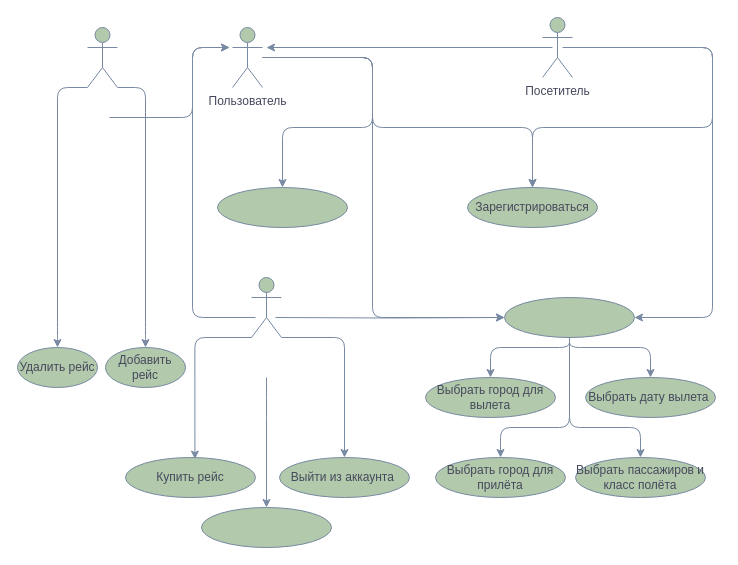
The diagram is 738 pixels wide and 565 high, and some of its shapes have lost their labels. The box of each missing label's shape, as (x1, y1, x2, y2) in pixels:
Администратор: (86, 26, 118, 88)
Войти в аккаунт: (216, 186, 348, 228)
Выбрать критерии и искать рейсы: (504, 296, 634, 338)
Зарегистрированный пользователь: (250, 276, 282, 338)
Просмотреть купленные рейсы: (200, 506, 332, 548)
